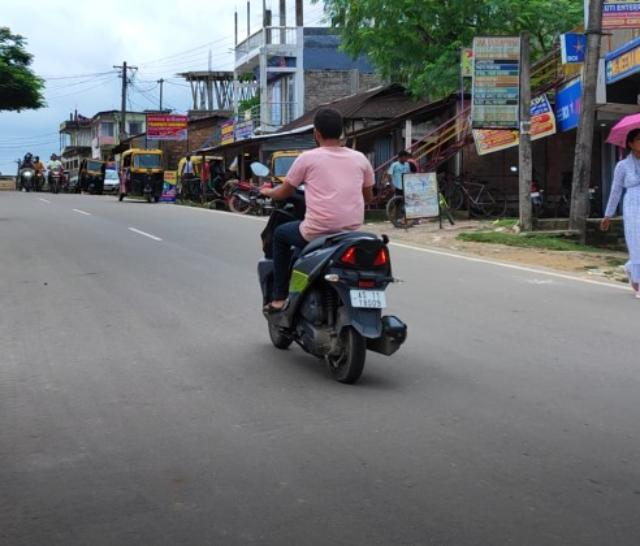licensePlate: (353, 289, 389, 308)
motorcycle: (247, 104, 409, 386)
withoutHelmet: (310, 109, 346, 149)
